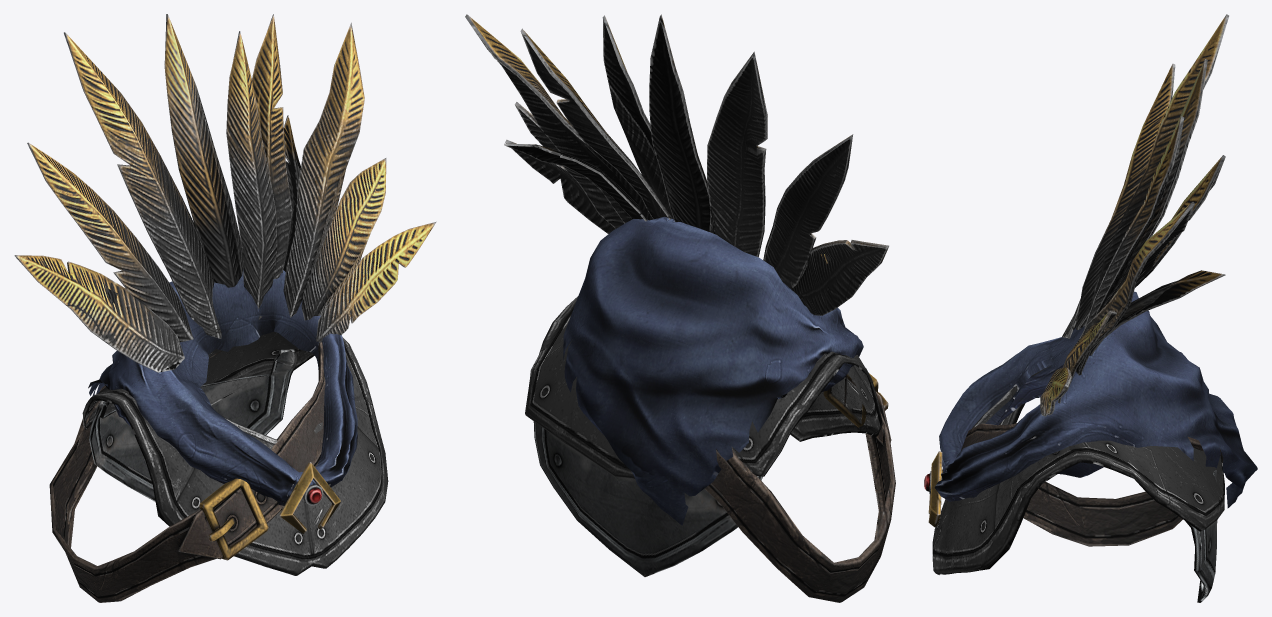
The model's file is sm_yun_varnaic_chest_add.gltf.
3 renders of one model, left to right at view 1: azimuth 30°, elevation 25°; view 2: azimuth 150°, elevation 25°; view 3: azimuth 270°, elevation 25°, orthographic. The views are drawn at different scales.
Parts seen in each view (by area): view 1: sm_yun_varnaic_chest_add; view 2: sm_yun_varnaic_chest_add; view 3: sm_yun_varnaic_chest_add.
Part boxes in pixels (bbox=[...]): sm_yun_varnaic_chest_add: bbox=[14, 14, 436, 602]; sm_yun_varnaic_chest_add: bbox=[465, 14, 895, 602]; sm_yun_varnaic_chest_add: bbox=[924, 14, 1257, 602].
Bounding box in the file's own units: 103 × 135 × 73.96.
